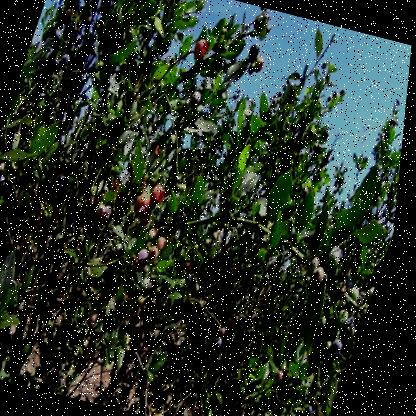intermediate: (135, 186, 169, 228), (194, 37, 212, 64)
mature: (335, 341, 351, 365), (248, 40, 266, 61), (62, 21, 77, 40)
young: (307, 252, 338, 294), (180, 88, 209, 129), (139, 271, 160, 316), (151, 233, 173, 267), (328, 244, 351, 276), (96, 196, 119, 225), (337, 307, 356, 331), (346, 326, 365, 348), (368, 286, 382, 314), (353, 287, 369, 306)
